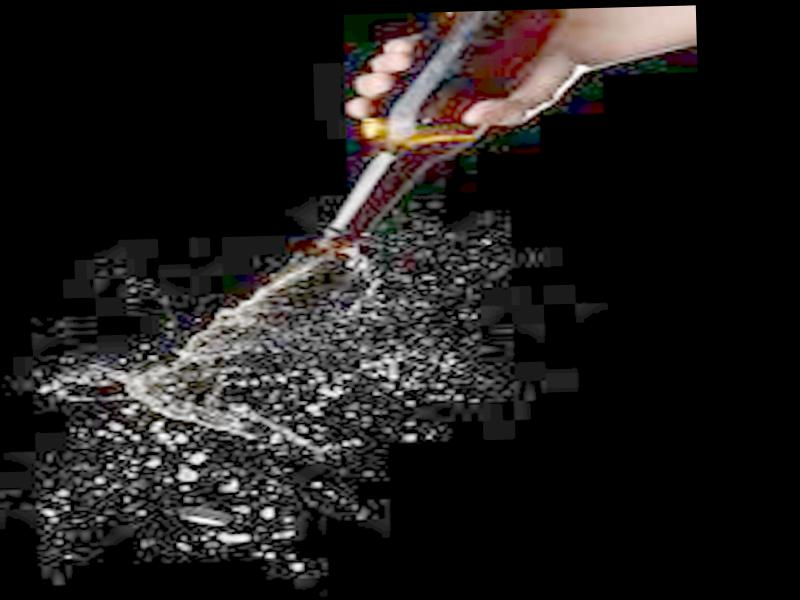Beer: (304, 10, 578, 251)
